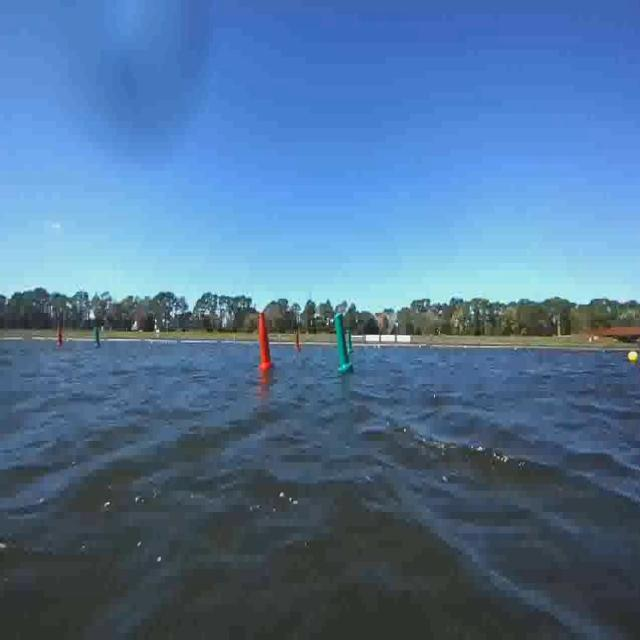green-column-buoy: (336, 312, 355, 373), (93, 324, 103, 348)
red-column-buoy: (258, 314, 276, 371), (58, 324, 66, 346), (294, 335, 301, 353)
yellow-buoy: (628, 350, 638, 364)
